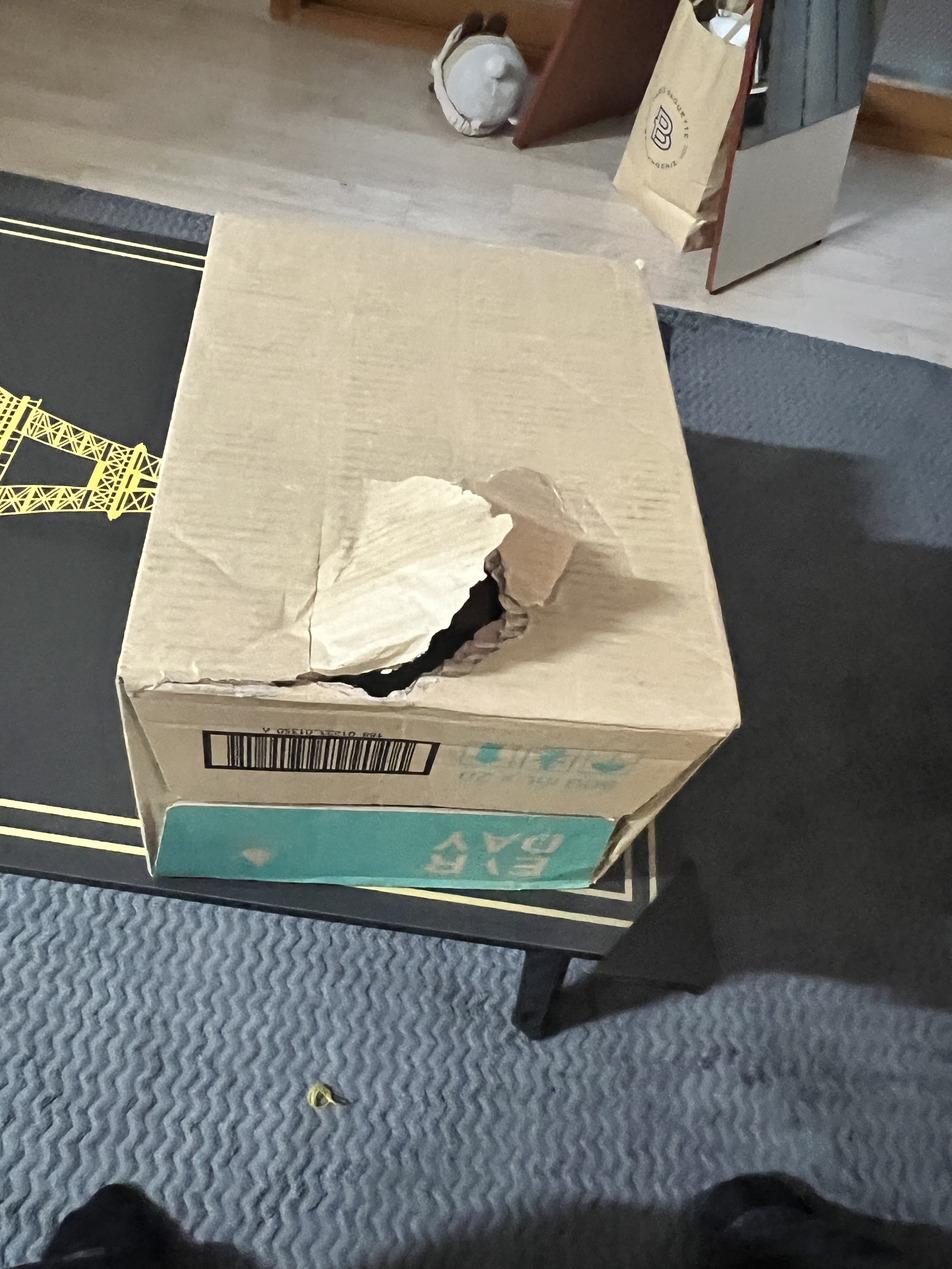damaged package: (230, 465, 599, 702)
